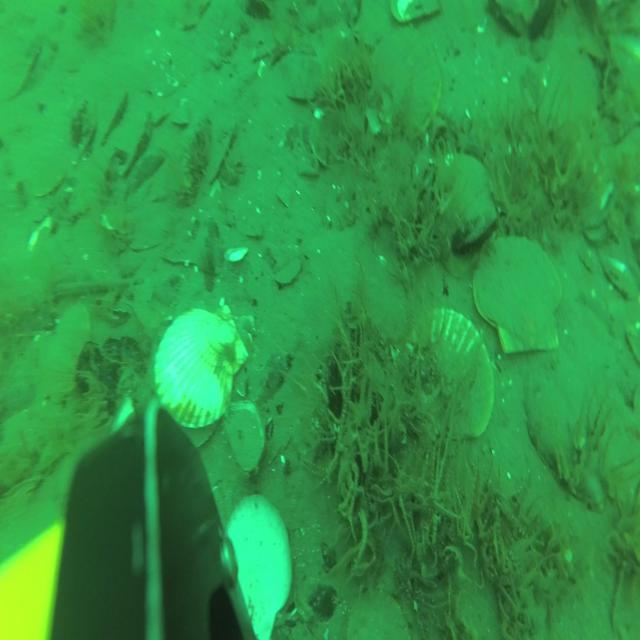scallop: (153, 296, 252, 441), (404, 312, 493, 442), (474, 240, 567, 354), (368, 29, 442, 139), (427, 152, 492, 244), (539, 46, 597, 136)
